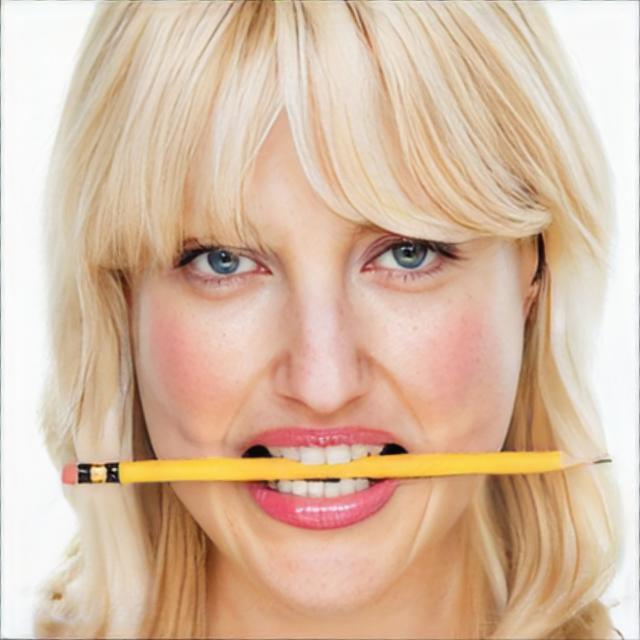disgust: (126, 94, 527, 616)
